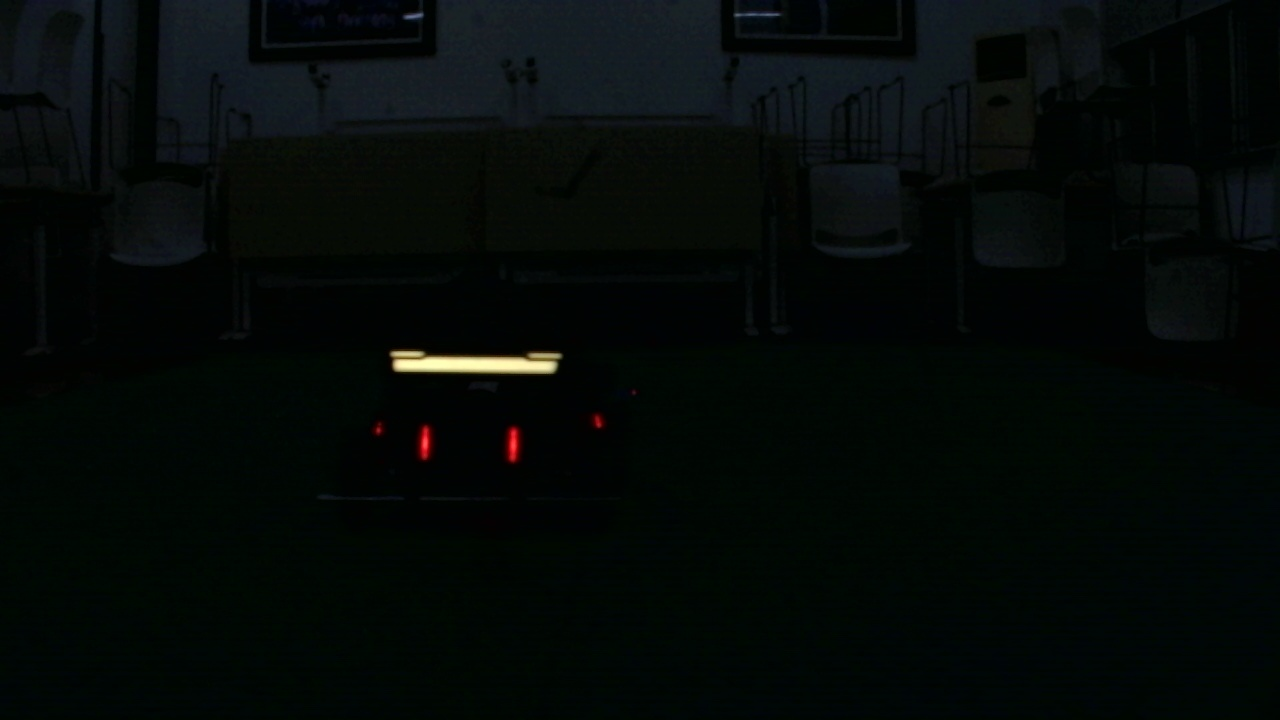lamp: (502, 419, 519, 466), (418, 419, 432, 459)
pair1: (422, 423, 521, 462)
